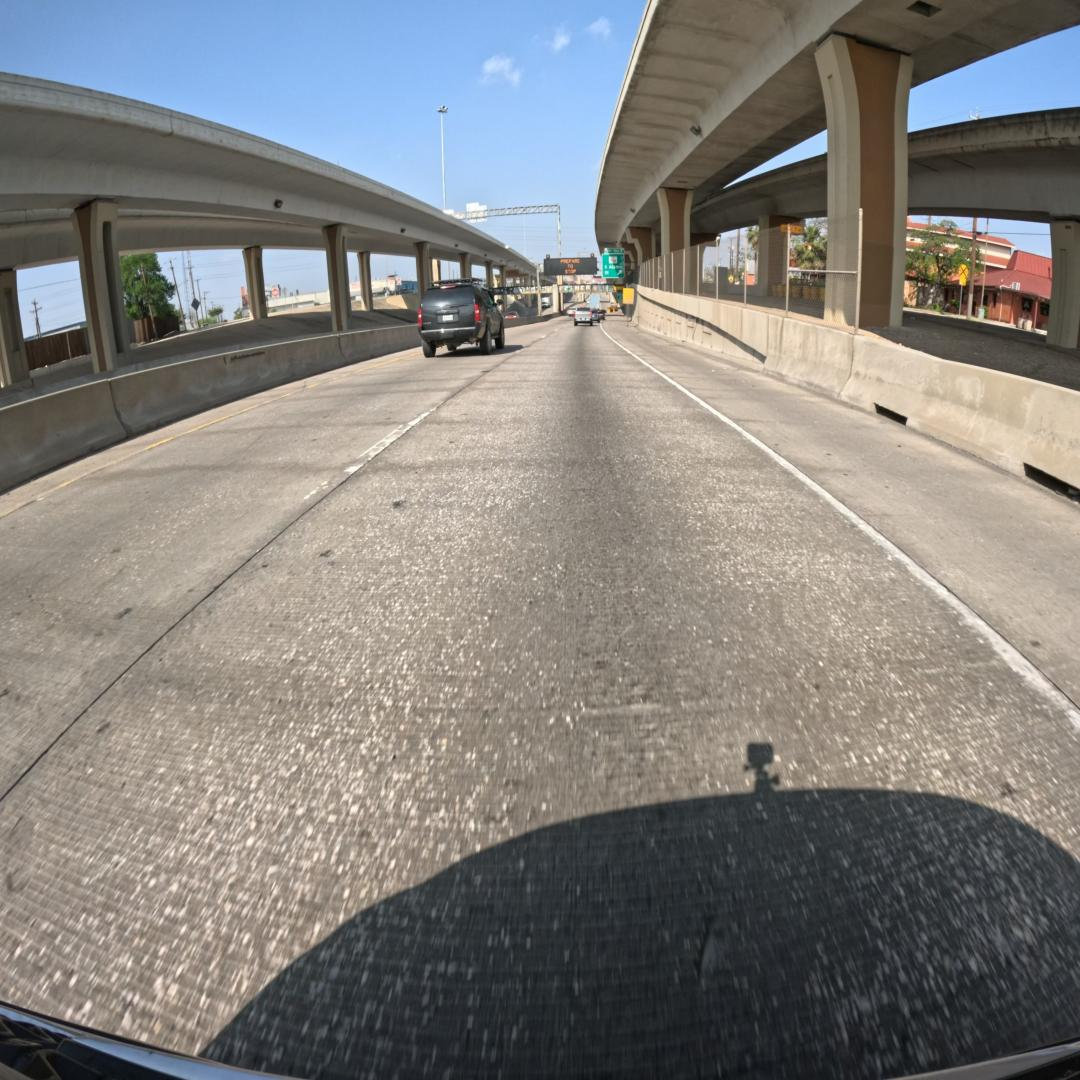lane0: (0, 325, 1080, 1080)
lane1: (0, 349, 505, 801)
